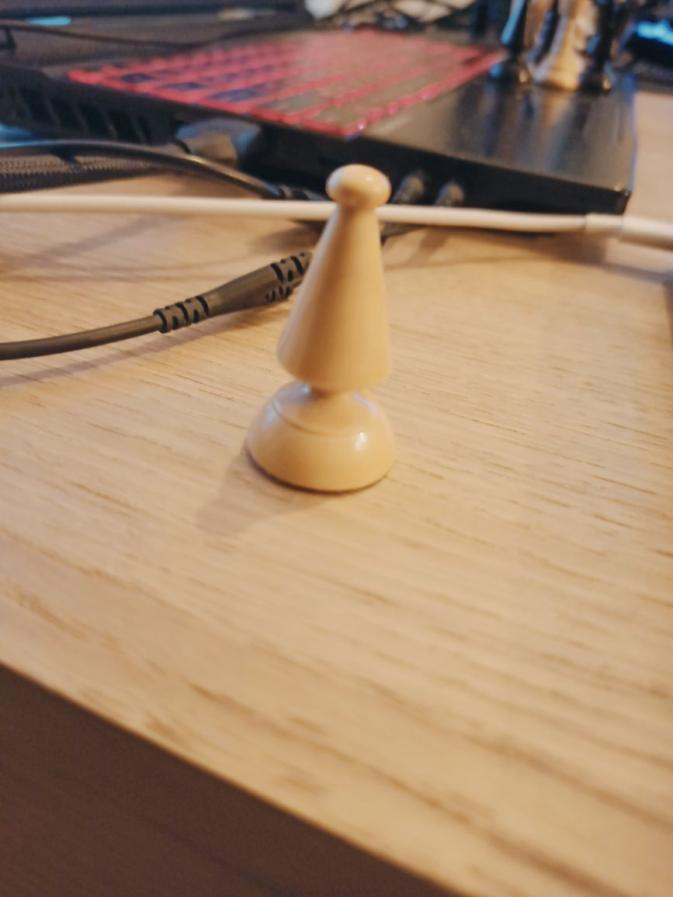wbishop: (243, 162, 400, 495)
